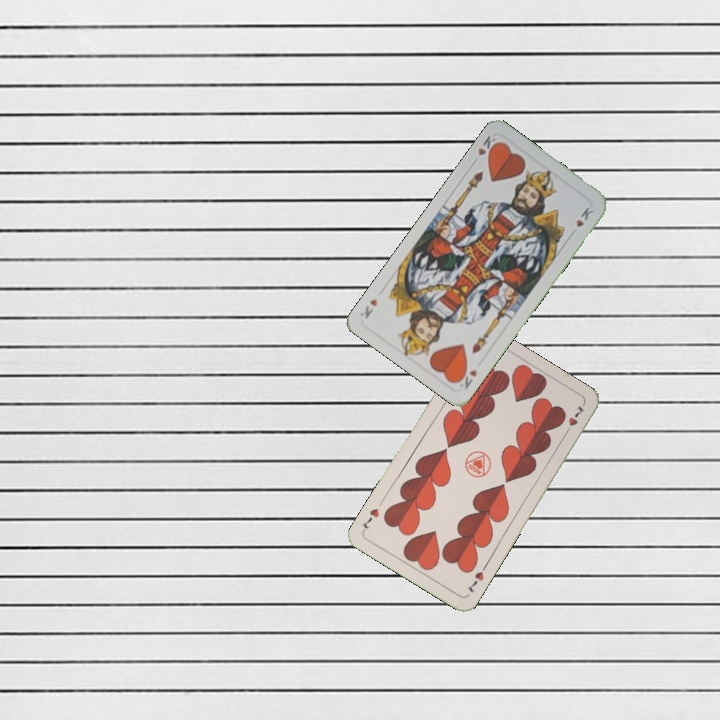H7: (463, 561, 489, 595)
HK: (468, 131, 502, 167), (453, 364, 480, 392)
